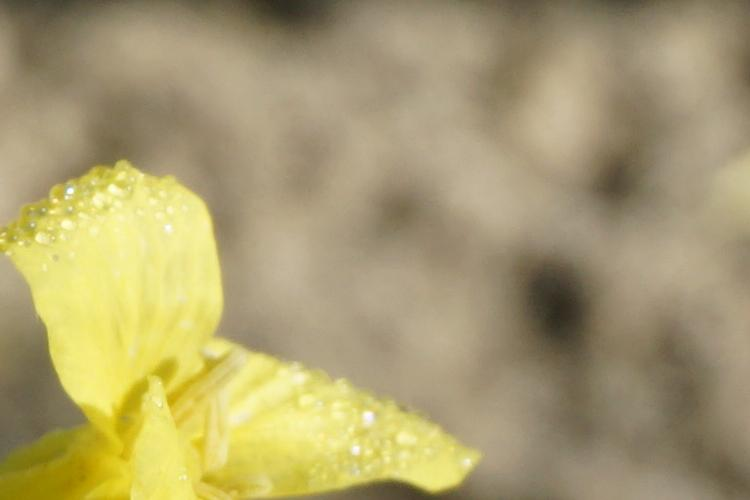yellow: (15, 165, 485, 492)
